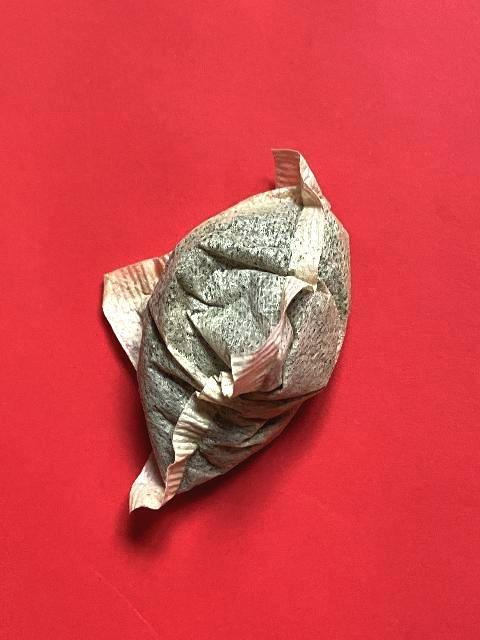teabag: (100, 146, 354, 514)
